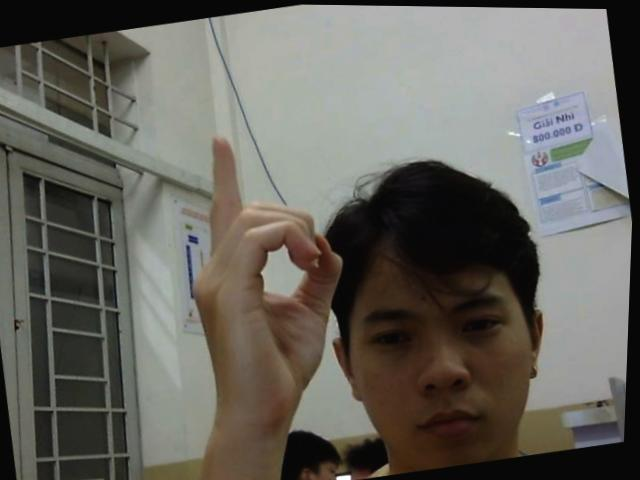D: (163, 118, 370, 428)
